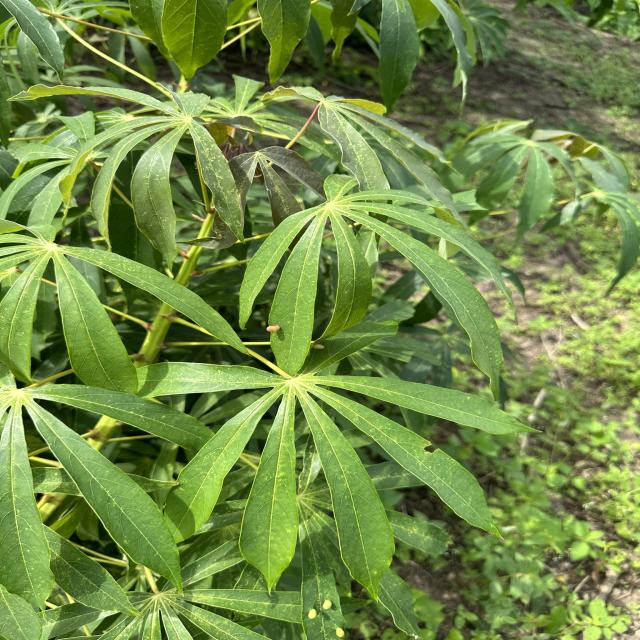Mosca: (310, 594, 348, 640), (336, 211, 373, 241), (258, 319, 281, 341)
